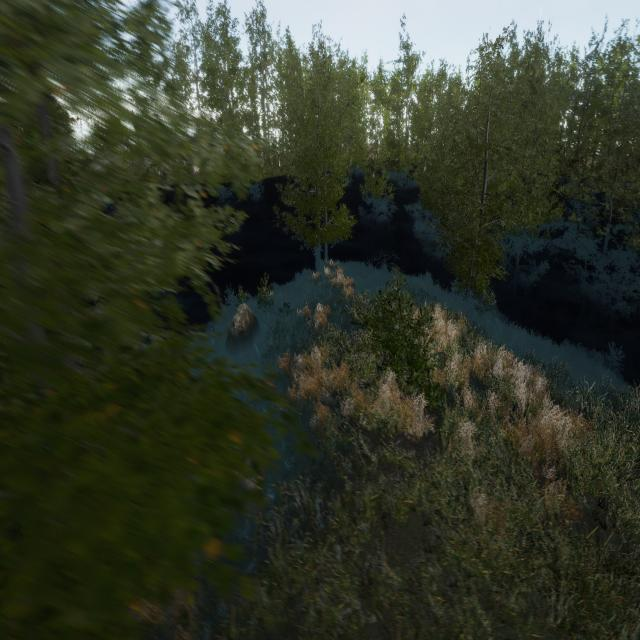Human: (264, 281, 282, 324)
